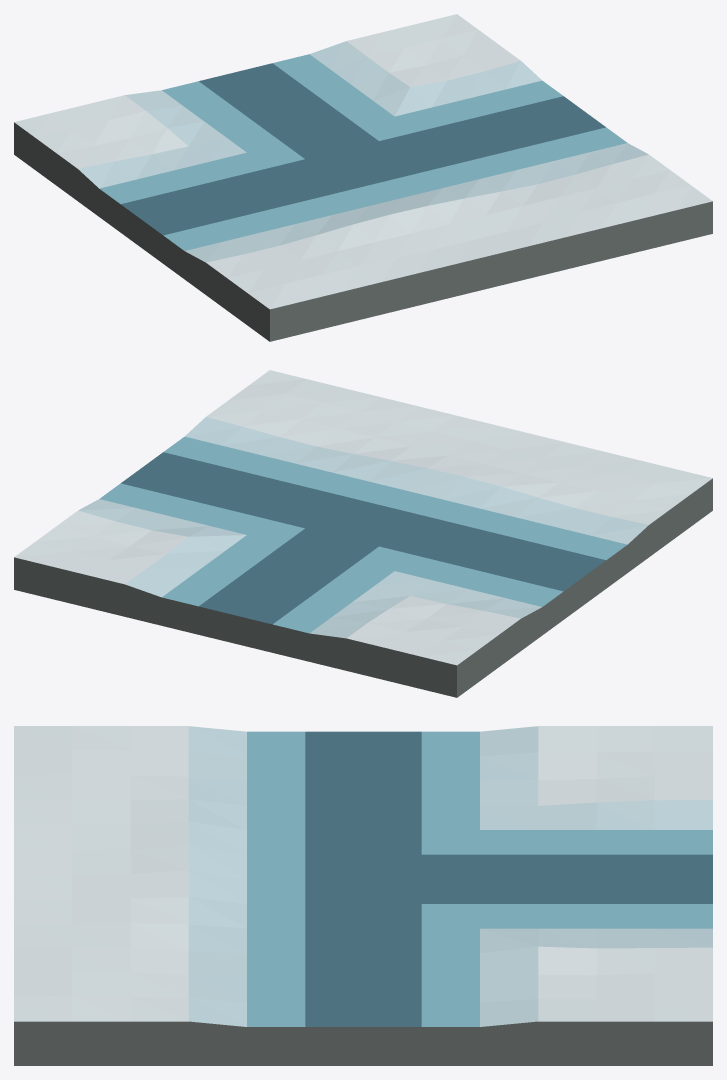
The model's file is ICE_10_StreamJunction.glb.
3 renders of one model, top to bottom at view 1: azimuth 30°, elevation 25°; view 2: azimuth 150°, elevation 25°; view 3: azimuth 270°, elevation 25°, orthographic. The views are drawn at different scales.
Visible parts, largest first — view 1: ICE_10_StreamJunction; view 2: ICE_10_StreamJunction; view 3: ICE_10_StreamJunction.
Part boxes in pixels (<box>): ICE_10_StreamJunction: <box>14,14,712,341</box>; ICE_10_StreamJunction: <box>14,370,712,697</box>; ICE_10_StreamJunction: <box>14,726,712,1065</box>.
Bounding box in the file's own units: 4 × 0.3068 × 4.
